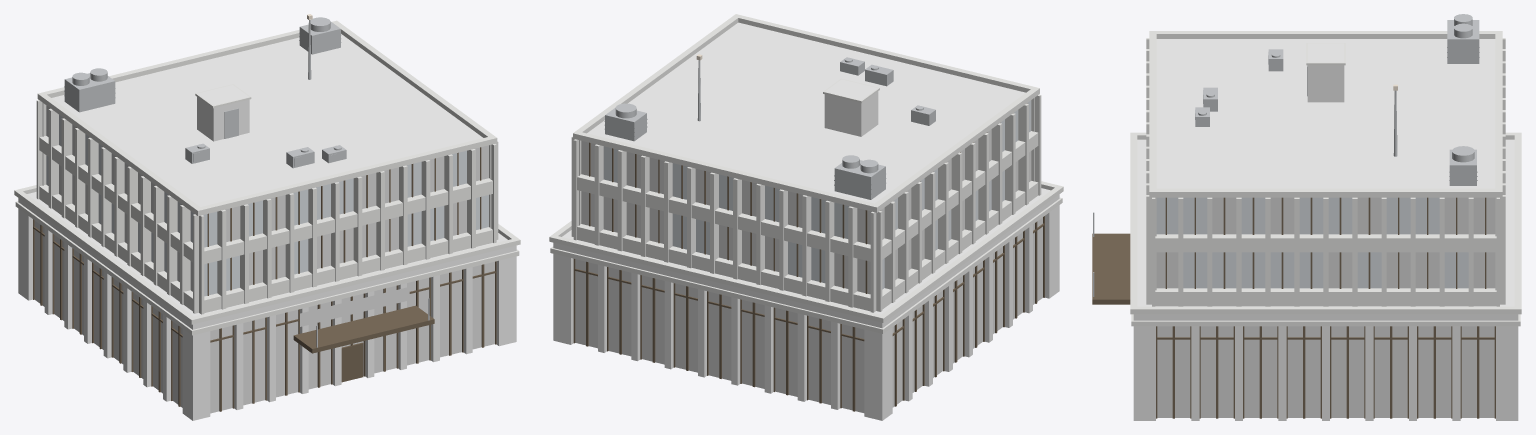
File: office_w90f4.glb
The picture shows the model from 3 angles, left to right: view 1: azimuth 30°, elevation 25°; view 2: azimuth 150°, elevation 25°; view 3: azimuth 270°, elevation 25°; orthographic projection. The views are drawn at different scales.
Parts seen in each view (by area): view 1: office_w90f4_Roof, office_w90f4_Walls, office_w90f4_WindowsLit, office_w90f4_Walls2, office_w90f4_Trim, office_w90f4_Frames, office_w90f4_Glass, office_w90f4_Details, office_w90f4_Accent, office_w90f4_Brand; view 2: office_w90f4_Roof, office_w90f4_Walls, office_w90f4_WindowsLit, office_w90f4_Walls2, office_w90f4_Trim, office_w90f4_Frames, office_w90f4_Glass, office_w90f4_Details; view 3: office_w90f4_Roof, office_w90f4_WindowsLit, office_w90f4_Walls, office_w90f4_Trim, office_w90f4_Walls2, office_w90f4_Glass, office_w90f4_Frames, office_w90f4_Details, office_w90f4_Accent.
Boxes of the visible parts, left/top/right/bottom form: office_w90f4_Roof: left=27, top=34, right=507, bottom=316; office_w90f4_Walls: left=36, top=99, right=498, bottom=314; office_w90f4_WindowsLit: left=34, top=105, right=494, bottom=413; office_w90f4_Walls2: left=18, top=97, right=516, bottom=420; office_w90f4_Trim: left=14, top=20, right=520, bottom=335; office_w90f4_Frames: left=33, top=118, right=496, bottom=411; office_w90f4_Glass: left=46, top=115, right=488, bottom=296; office_w90f4_Details: left=64, top=17, right=429, bottom=347; office_w90f4_Accent: left=293, top=305, right=434, bottom=353; office_w90f4_Brand: left=300, top=287, right=409, bottom=326; office_w90f4_Roof: left=562, top=22, right=1050, bottom=314; office_w90f4_Walls: left=571, top=94, right=1041, bottom=312; office_w90f4_WindowsLit: left=575, top=129, right=1042, bottom=412; office_w90f4_Walls2: left=553, top=91, right=1059, bottom=420; office_w90f4_Trim: left=549, top=14, right=1063, bottom=333; office_w90f4_Frames: left=573, top=103, right=1044, bottom=411; office_w90f4_Glass: left=603, top=100, right=1031, bottom=289; office_w90f4_Details: left=604, top=57, right=935, bottom=199; office_w90f4_Roof: left=1137, top=39, right=1514, bottom=306; office_w90f4_WindowsLit: left=1156, top=197, right=1495, bottom=417; office_w90f4_Walls: left=1146, top=38, right=1505, bottom=306; office_w90f4_Trim: left=1130, top=31, right=1521, bottom=326; office_w90f4_Walls2: left=1133, top=65, right=1518, bottom=420; office_w90f4_Glass: left=1156, top=197, right=1468, bottom=288; office_w90f4_Frames: left=1156, top=197, right=1495, bottom=418; office_w90f4_Details: left=1093, top=14, right=1479, bottom=296; office_w90f4_Accent: left=1092, top=233, right=1130, bottom=304.
Size of the model in its own units: 91.4 by 69.4 by 93.7.
